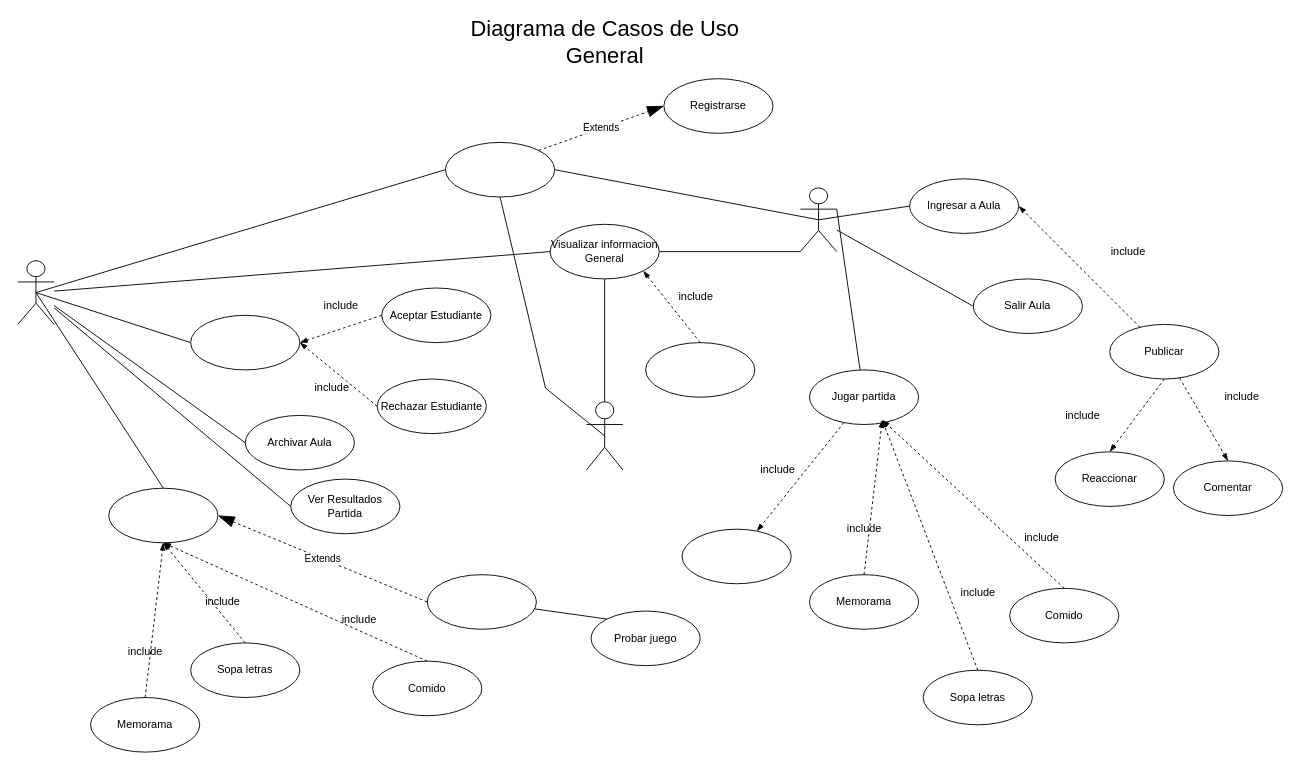
Image size: 1299x768. Some labels were removed from this diagram. The shapes that lost their labels are listed below. From the top down, each one's centre as x and y in pixels, then its label:
At (x=500, y=169): "login".
At (x=818, y=219): "Estudiante".
At (x=35, y=292): "Docente".
At (x=245, y=342): "Crear Aula".
At (x=700, y=369): "Probar juegos Base".
At (x=604, y=435): "Visitante".
At (x=163, y=515): "Crear juego".
At (x=736, y=556): "Ver Punteos".
At (x=481, y=601): "Crear partida".
